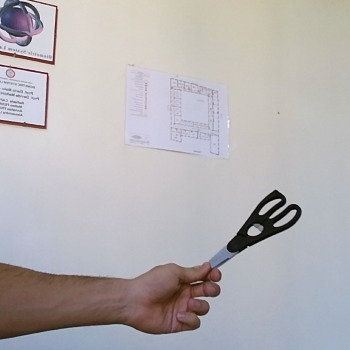hand: (2, 264, 218, 337)
